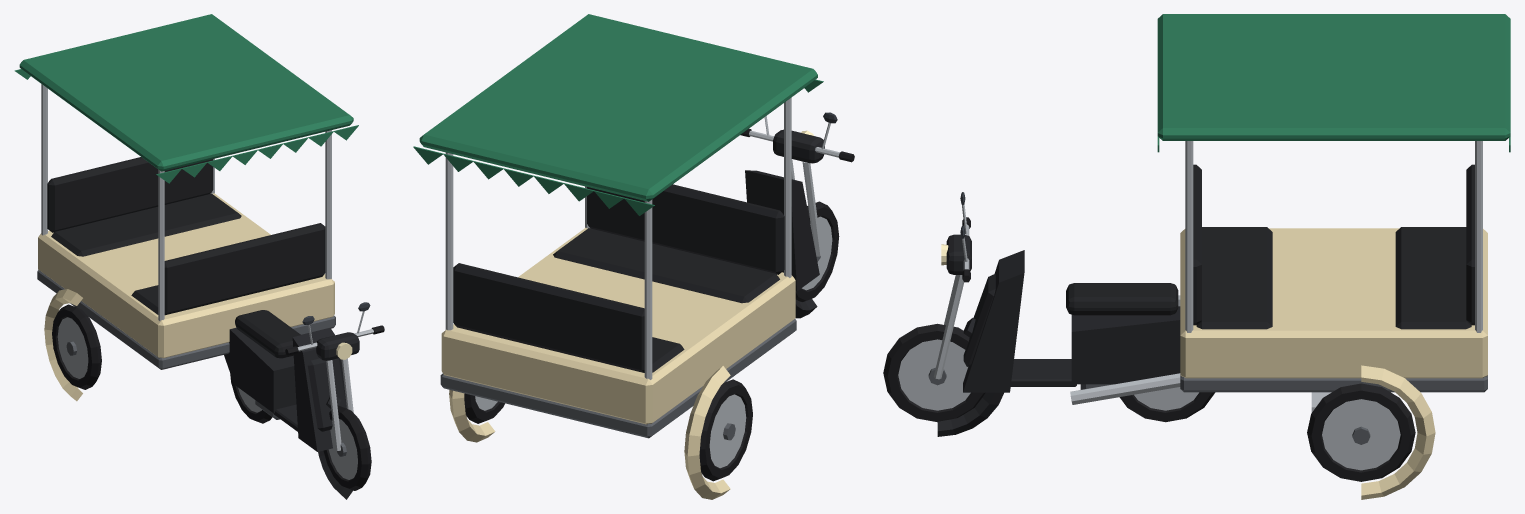
File: VEH_Remork.fbx
3 renders of one model, left to right at view 1: azimuth 30°, elevation 25°; view 2: azimuth 150°, elevation 25°; view 3: azimuth 270°, elevation 25°, orthographic. The views are drawn at different scales.
Parts seen in each view (by area): view 1: VEH_Remork, VEH_Remork_Bike; view 2: VEH_Remork, VEH_Remork_Bike; view 3: VEH_Remork, VEH_Remork_Bike.
Boxes of the visible parts, x1,y1,x2,y2 form: VEH_Remork: [14, 14, 358, 401]; VEH_Remork_Bike: [224, 302, 384, 499]; VEH_Remork: [413, 14, 823, 499]; VEH_Remork_Bike: [740, 112, 854, 318]; VEH_Remork: [1157, 14, 1510, 499]; VEH_Remork_Bike: [883, 192, 1215, 436].
Bounding box in the file's own units: 1.67 × 2.25 × 3.47.
